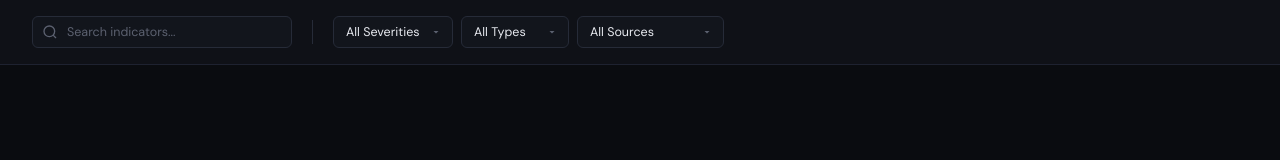
Toolbar › clears filters when clear button clicked
The width and height of the screenshot is (1280, 160).
Select "Critical" in the 1st dropdown showing "All Severities": (393, 32) [333,16,453,48]
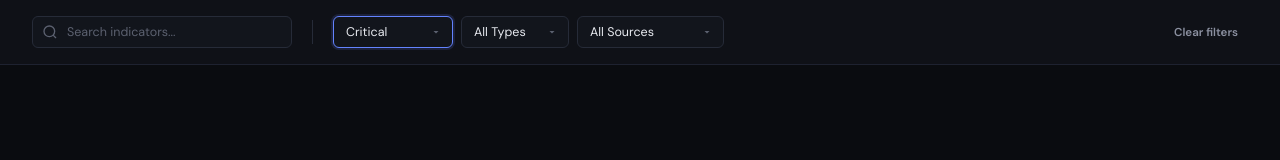
Click the button "Clear filters": (1206, 32) [1164,18,1248,46]
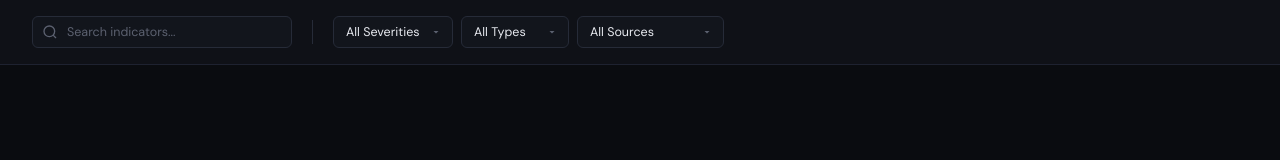
Expected: the button "Clear filters" is gone
